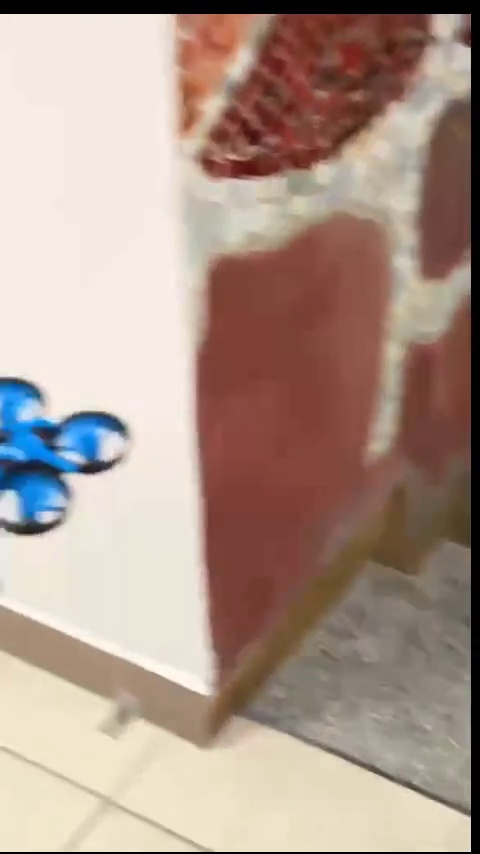drone: (0, 372, 129, 545)
